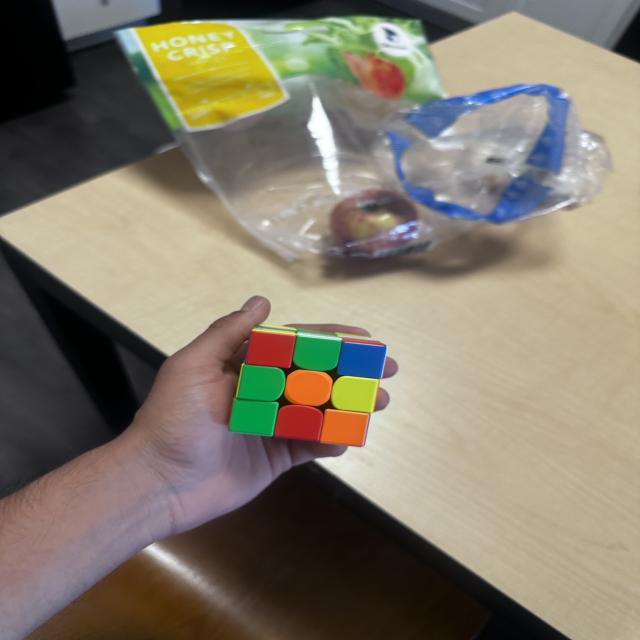sticker: (245, 326, 298, 370), (272, 402, 326, 443), (292, 331, 343, 372), (337, 340, 389, 380), (319, 408, 371, 447), (283, 368, 333, 408), (329, 375, 380, 414), (236, 363, 287, 402), (228, 398, 278, 437)
